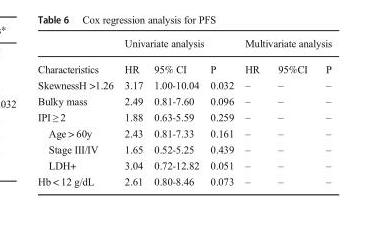table: (37, 36, 331, 186)
table column: (37, 36, 118, 186), (147, 36, 203, 186), (268, 36, 315, 186), (203, 36, 238, 186), (238, 36, 268, 186), (118, 36, 147, 186), (315, 36, 331, 186)
table column header: (37, 36, 331, 76)
table row: (37, 55, 331, 76), (37, 36, 331, 55), (37, 108, 331, 125), (37, 156, 331, 173), (37, 76, 331, 92), (37, 92, 331, 108), (37, 140, 331, 156), (37, 125, 331, 140), (37, 173, 331, 186)
table spanning cell: (37, 36, 118, 76), (118, 36, 238, 55), (238, 36, 331, 55)
